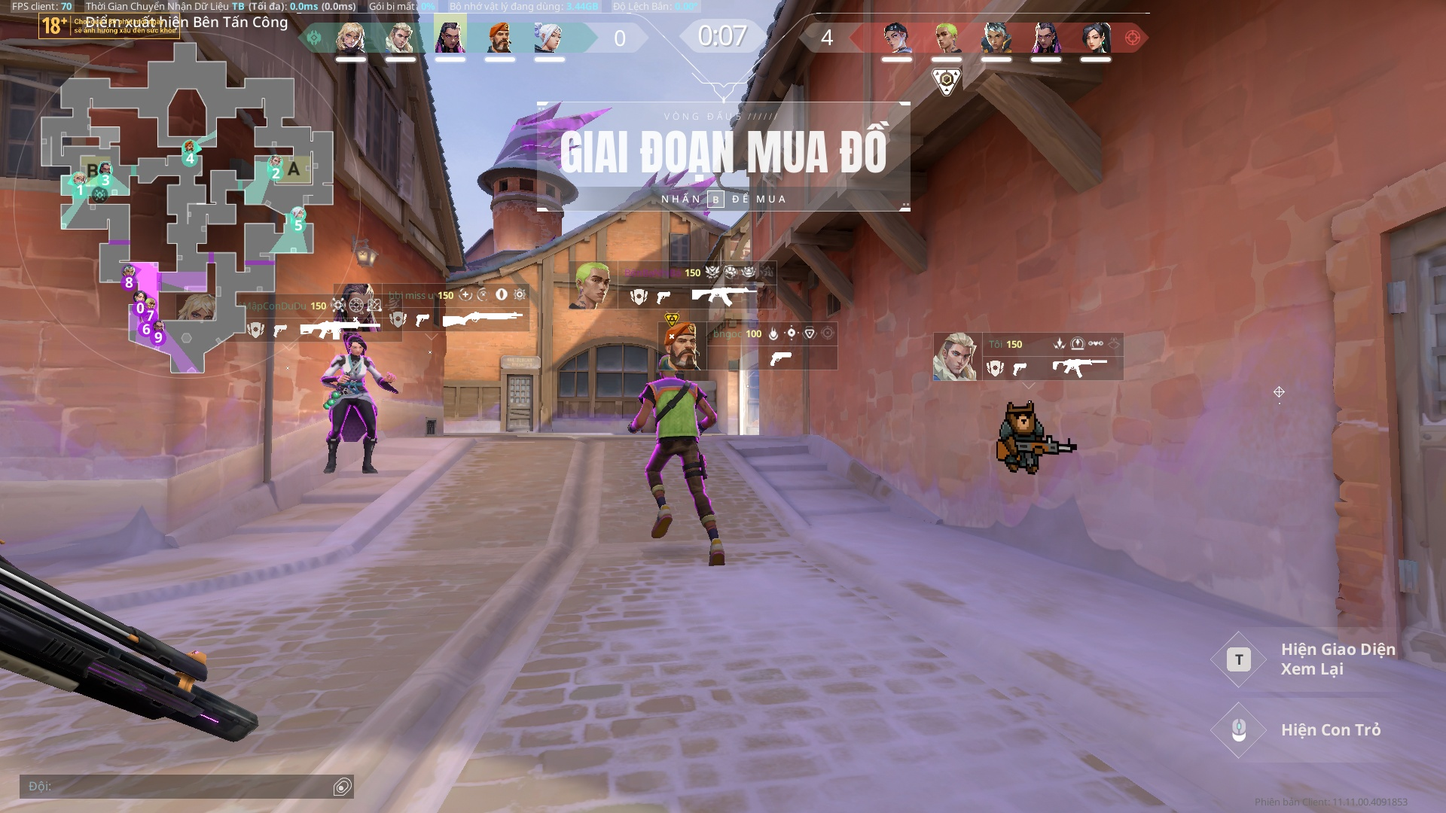body: (648, 373, 699, 439), (334, 353, 374, 388)
head: (655, 356, 679, 379), (346, 336, 368, 358)
